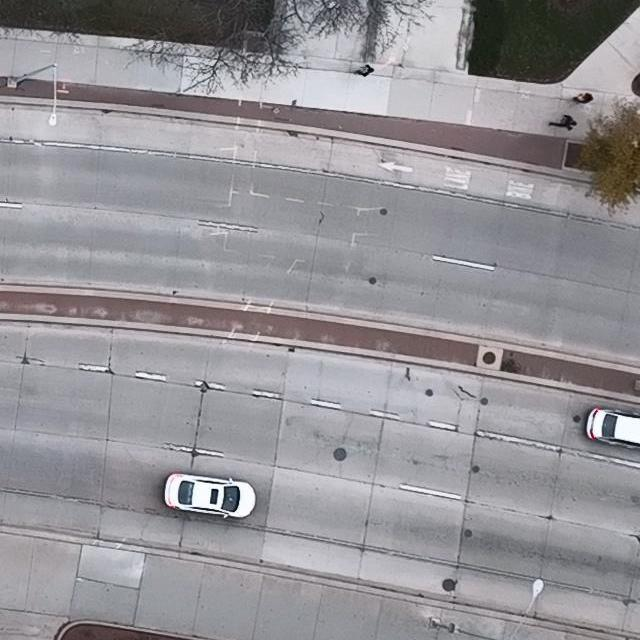car: (162, 472, 255, 518), (586, 408, 640, 448)
